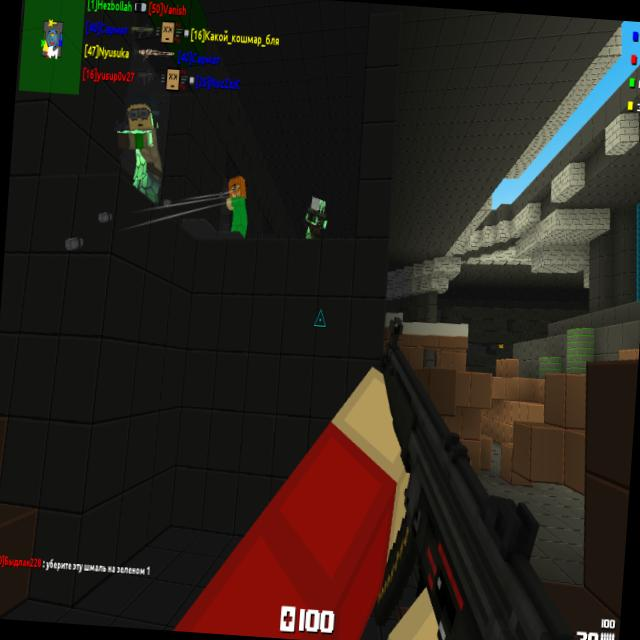enemy: (111, 88, 168, 206), (222, 172, 251, 238), (302, 192, 329, 240)
